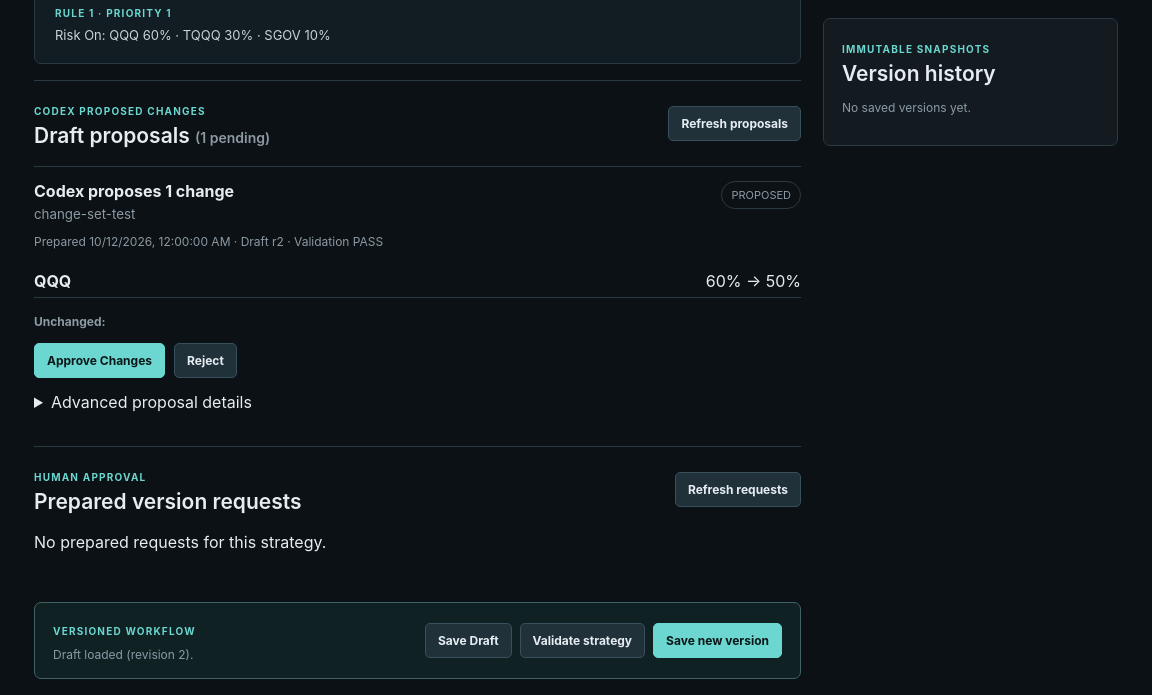
Scenario: Strategy Lab › refreshes the canonical Draft after approving a persisted proposal
(page scrolled)
Check: the text "Risk On: QQQ 60% · TQQQ 30% · SGOV 10%" is shown, box [55,27,331,43]
Step 1. Click the button "Approve Changes" → (100, 360), box [34,343,165,378]
(page scrolled)
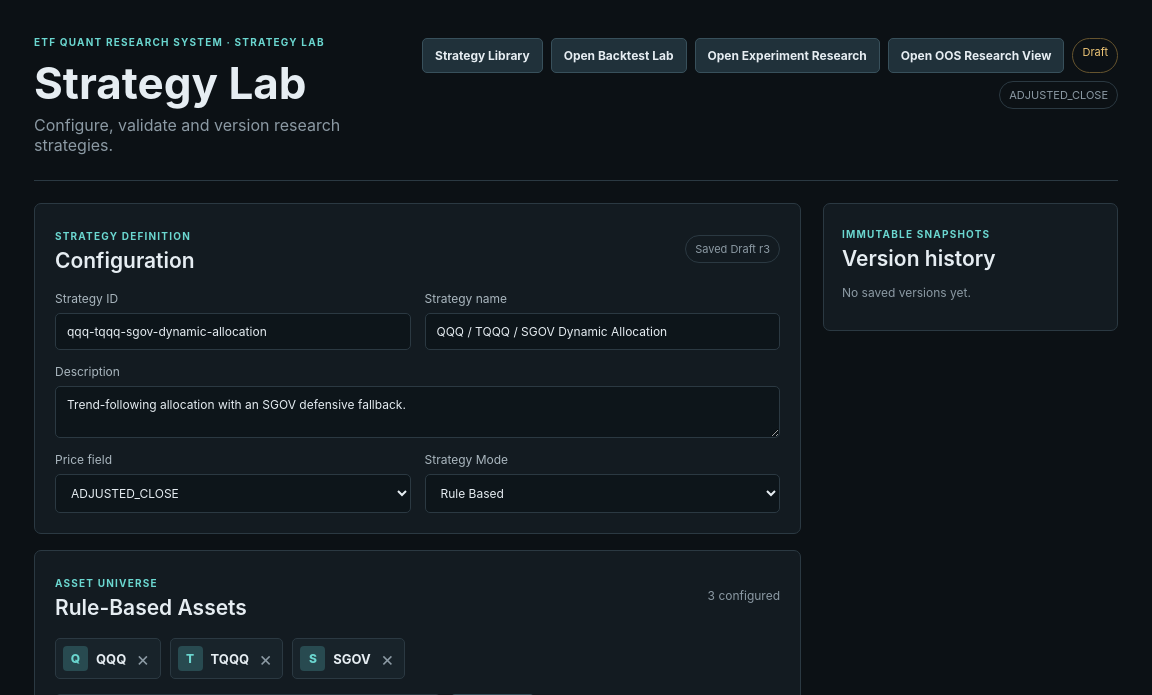
Check: the text "Saved Draft r3" is shown, box [685,234,780,262]
